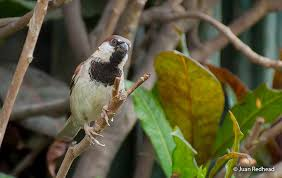hsparrow: (54, 30, 137, 157)
